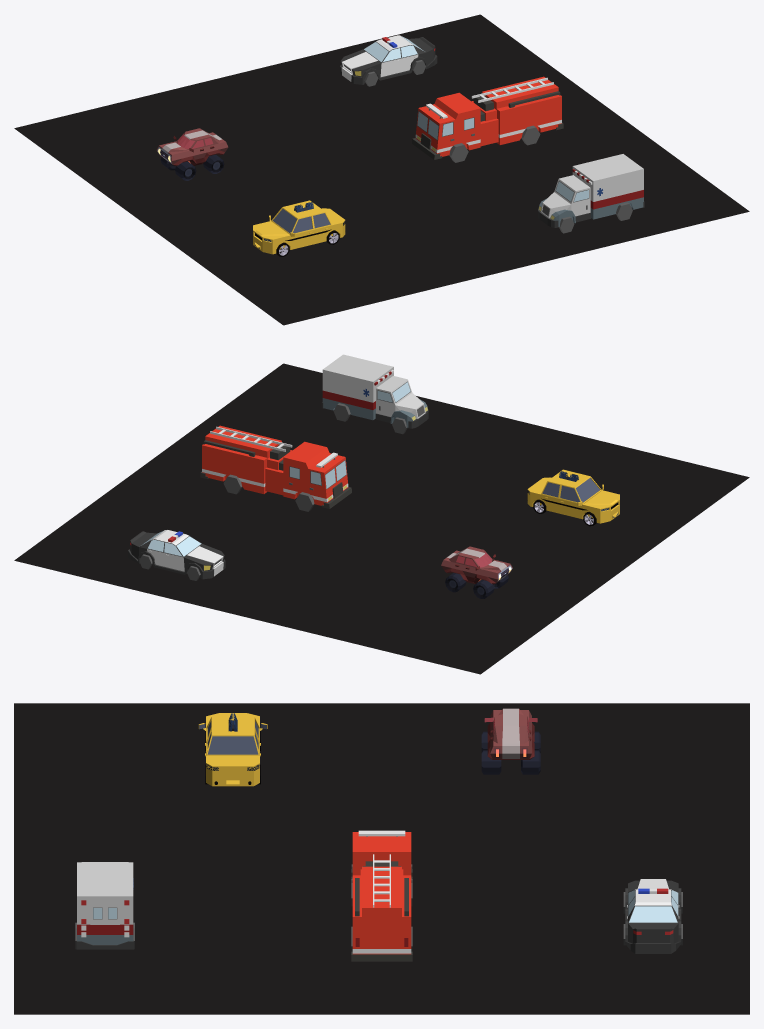
File: Tile 18_Combined_2.fbx
3 renders of one model, top to bottom at view 1: azimuth 30°, elevation 25°; view 2: azimuth 150°, elevation 25°; view 3: azimuth 270°, elevation 25°, orthographic. The views are drawn at different scales.
Visible parts, largest first — view 1: MeshBaker_Cluster_0_mesh_mesh; view 2: MeshBaker_Cluster_0_mesh_mesh; view 3: MeshBaker_Cluster_0_mesh_mesh.
Boxes of the visible parts, bbox=[...] form: MeshBaker_Cluster_0_mesh_mesh: bbox=[14, 14, 749, 325]; MeshBaker_Cluster_0_mesh_mesh: bbox=[14, 354, 749, 674]; MeshBaker_Cluster_0_mesh_mesh: bbox=[14, 703, 749, 1014].
Size of the model in its own units: 3000 by 300 by 3000.
